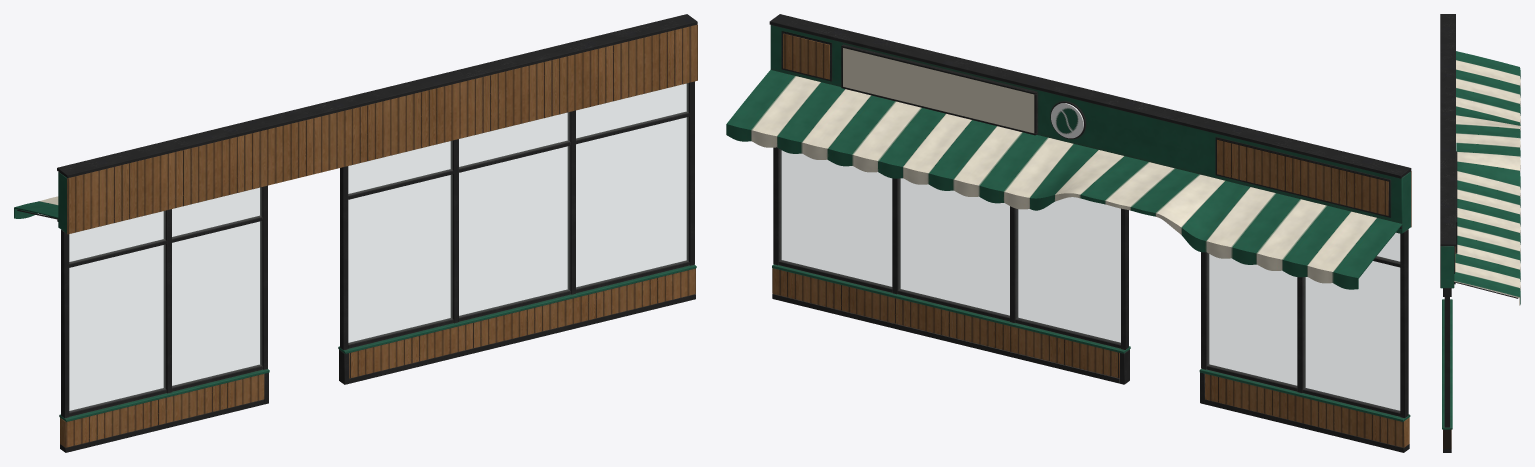
File: PH_CafeFront__Body.fbx
3 renders of one model, left to right at view 1: azimuth 30°, elevation 25°; view 2: azimuth 150°, elevation 25°; view 3: azimuth 270°, elevation 25°, orthographic. The views are drawn at different scales.
Visible parts, largest first — view 1: PH_CafeFront__Body; view 2: PH_CafeFront__Body; view 3: PH_CafeFront__Body.
Boxes of the visible parts, x1,y1,x2,y2 form: PH_CafeFront__Body: (14, 14, 697, 452); PH_CafeFront__Body: (726, 14, 1411, 452); PH_CafeFront__Body: (1440, 14, 1520, 452).
Size of the model in its own units: 7.8 by 3.3 by 1.15.
